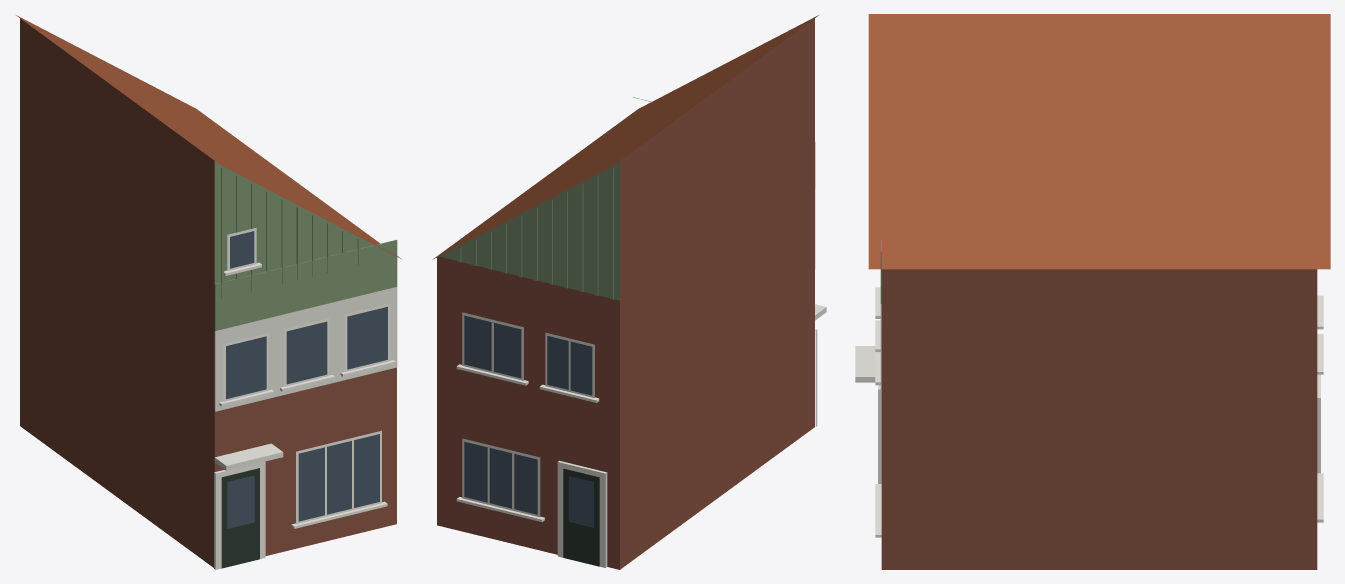
The model's file is nd-bz-green-gable__green__2__gable__short__solid__f0d1__mirror.glb.
3 renders of one model, left to right at view 1: azimuth 30°, elevation 25°; view 2: azimuth 150°, elevation 25°; view 3: azimuth 270°, elevation 25°, orthographic. The views are drawn at different scales.
Visible parts, largest first — view 1: nd-bz-green-gable__green__2__gable__short__solid__f0d1__mirr; view 2: nd-bz-green-gable__green__2__gable__short__solid__f0d1__mirr; view 3: nd-bz-green-gable__green__2__gable__short__solid__f0d1__mirr.
Boxes of the visible parts, x1,y1,x2,y2 form: nd-bz-green-gable__green__2__gable__short__solid__f0d1__mirr: (16,15,401,569); nd-bz-green-gable__green__2__gable__short__solid__f0d1__mirr: (432,15,826,569); nd-bz-green-gable__green__2__gable__short__solid__f0d1__mirr: (855,14,1330,569).
Size of the model in its own units: 4.51 by 9.6 by 9.06.
